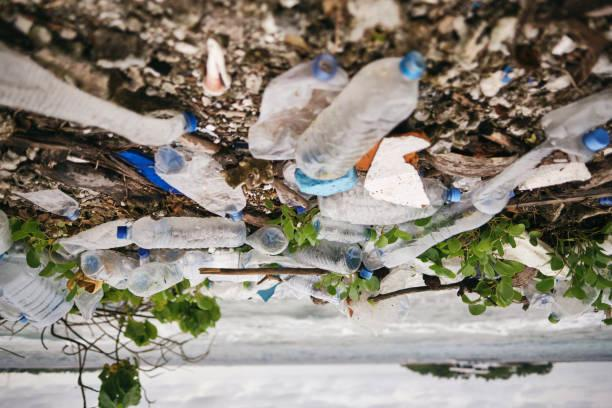Plastic: (3, 62, 201, 145), (306, 46, 428, 177), (247, 51, 353, 165), (358, 201, 500, 280), (314, 170, 470, 226), (471, 132, 556, 215), (156, 146, 244, 218), (0, 250, 74, 324), (543, 84, 612, 162), (114, 216, 252, 251), (61, 212, 137, 260), (76, 247, 142, 287), (132, 257, 194, 295), (290, 242, 368, 271), (17, 190, 86, 219), (247, 218, 296, 257), (312, 217, 377, 246), (74, 277, 109, 329)
